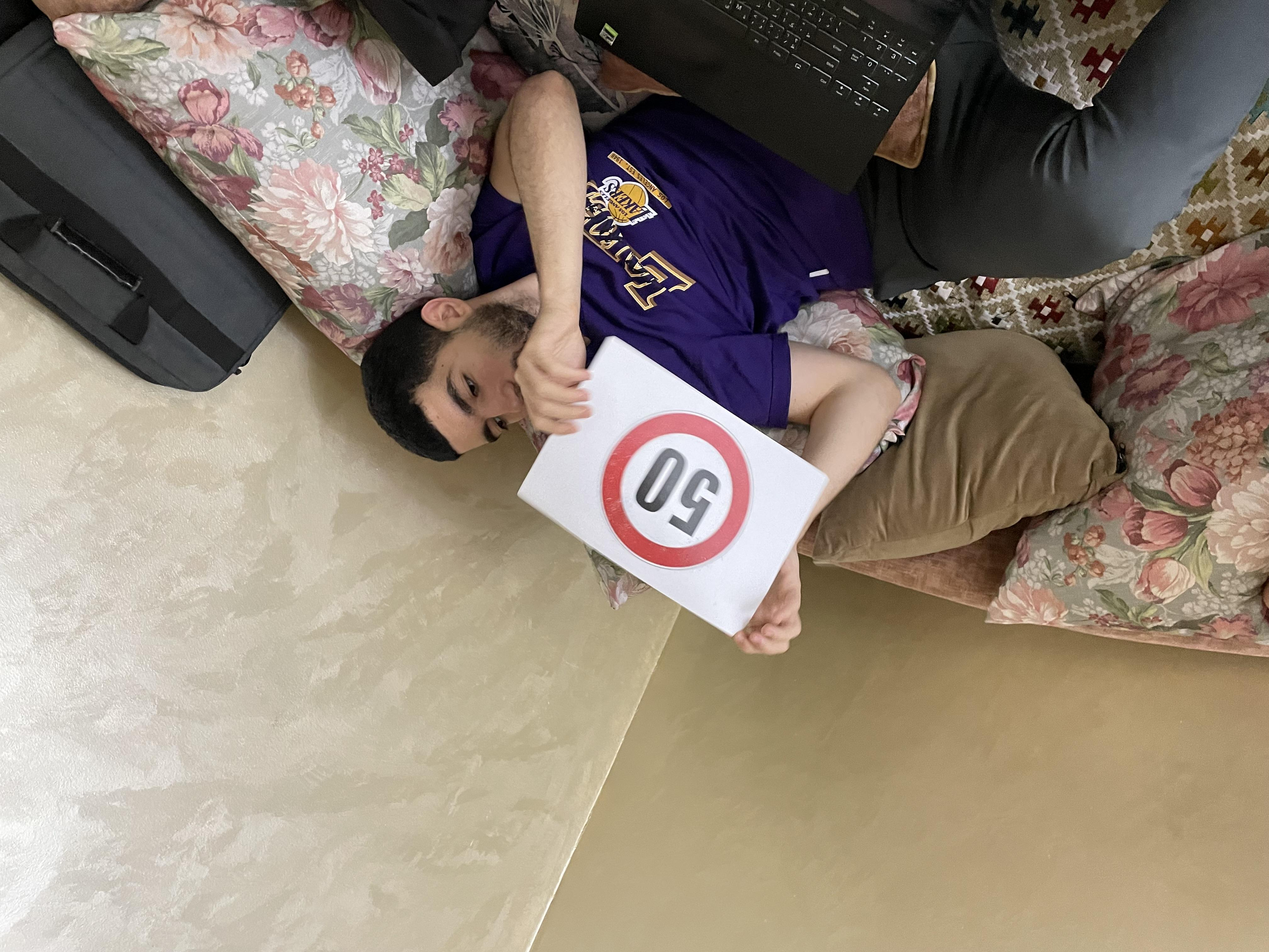50-Speed: (509, 444, 721, 574)
